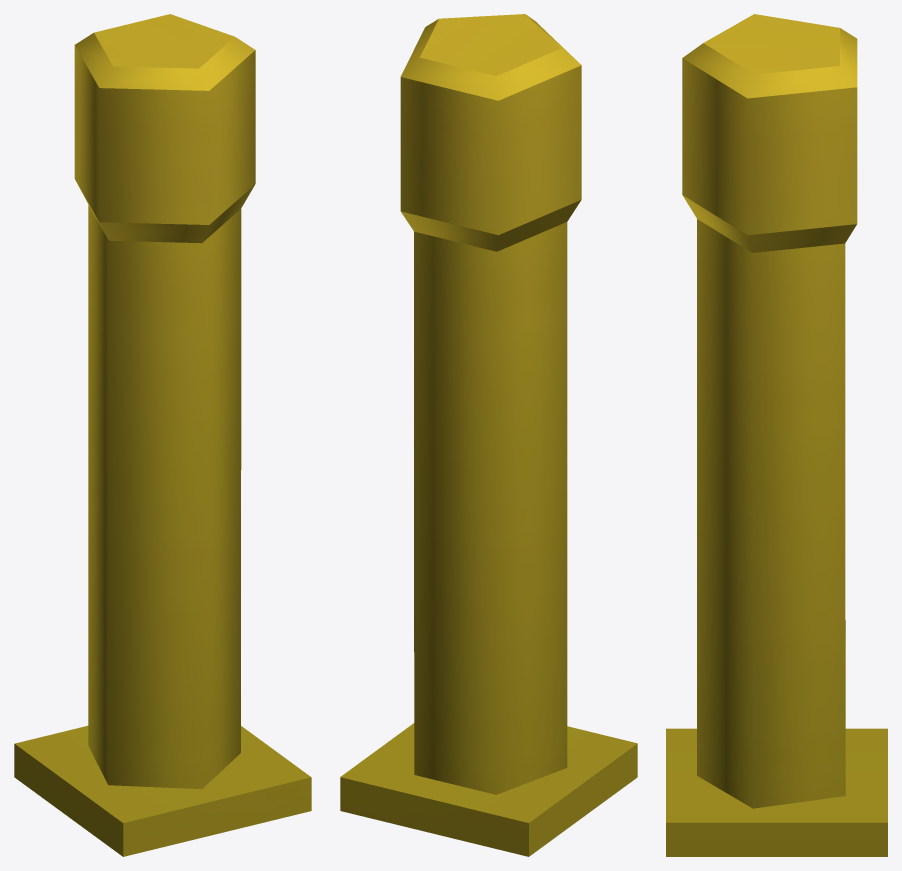
The model's file is Bollards_4_A.fbx.
3 renders of one model, left to right at view 1: azimuth 30°, elevation 25°; view 2: azimuth 150°, elevation 25°; view 3: azimuth 270°, elevation 25°, orthographic.
Parts seen in each view (by area): view 1: Bollards_4_A; view 2: Bollards_4_A; view 3: Bollards_4_A.
Boxes of the visible parts, <box> form: Bollards_4_A: <box>14,14,311,856</box>; Bollards_4_A: <box>340,14,637,856</box>; Bollards_4_A: <box>666,14,887,856</box>.
Size of the model in its own units: 15.3 by 58.39 by 15.3.
